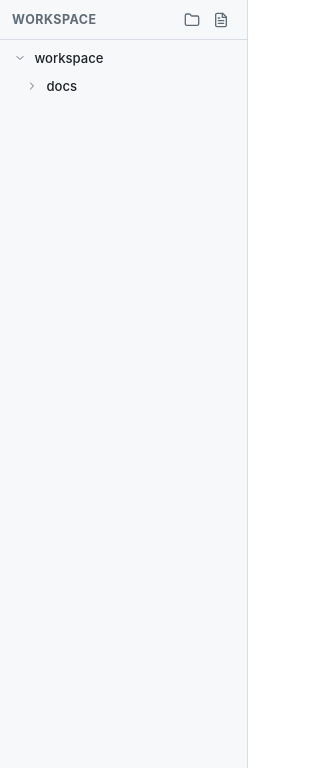
Test: Sidebar 文件树 › 普通目录默认折叠，点击后才显示已加载的后代
Expected: the text "readme.md" is not shown
Click the button "docs": point(124, 86) [4, 72, 243, 100]
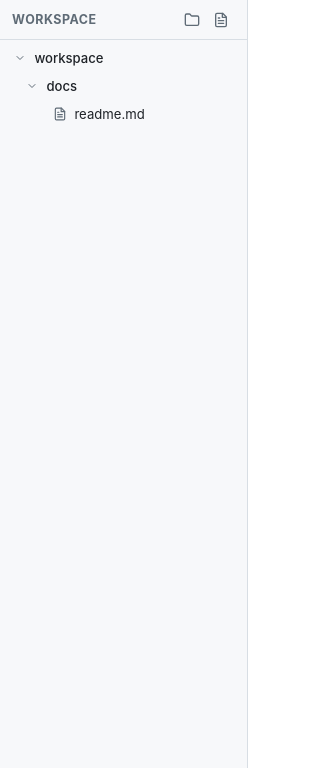
Now the text "readme.md" is shown, box [74, 106, 145, 122]
